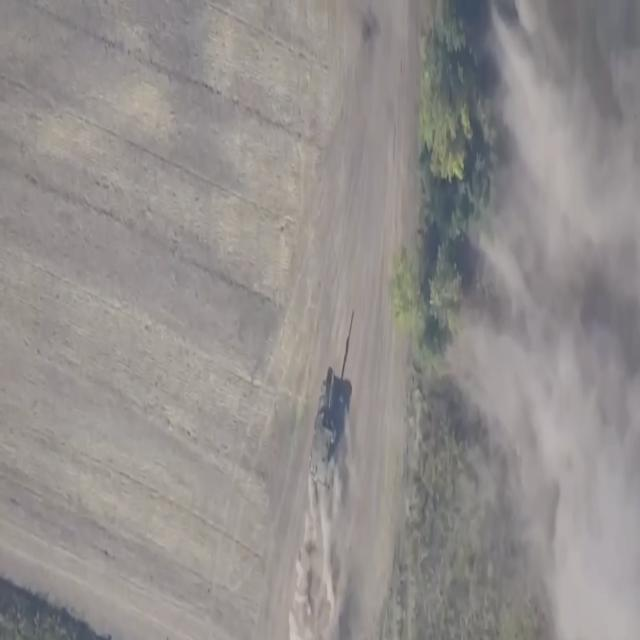vehicle: (309, 308, 359, 493)
